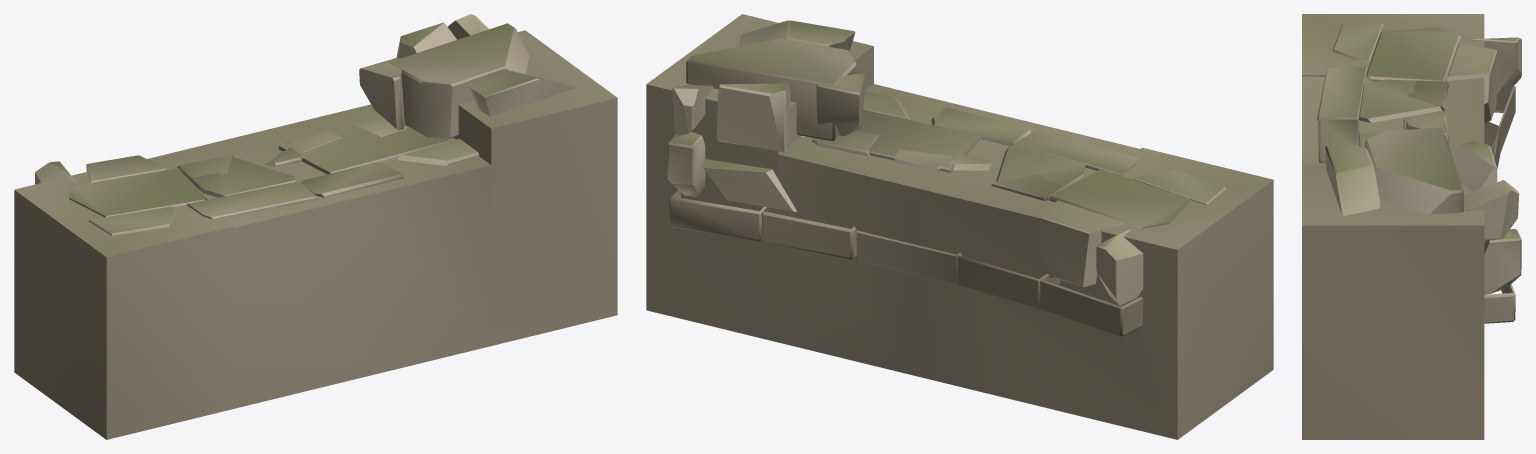
Rendered from dome_drum_b0.glb.
3 views of the same model, side by side, from view 1: azimuth 30°, elevation 25°; view 2: azimuth 150°, elevation 25°; view 3: azimuth 270°, elevation 25° (orthographic). The views are drawn at different scales.
Parts seen in each view (by area): view 1: dome_drum_b0_far, dome_drum_b0; view 2: dome_drum_b0_far, dome_drum_b0; view 3: dome_drum_b0_far, dome_drum_b0.
Boxes of the visible parts, bbox=[...] form: dome_drum_b0_far: bbox=[14, 30, 617, 439]; dome_drum_b0: bbox=[35, 14, 577, 235]; dome_drum_b0_far: bbox=[646, 14, 1273, 439]; dome_drum_b0: bbox=[667, 20, 1225, 336]; dome_drum_b0_far: bbox=[1302, 14, 1484, 439]; dome_drum_b0: bbox=[1317, 23, 1521, 323].
Bounding box in the file's own units: 21.4 × 9.6 × 8.08.
